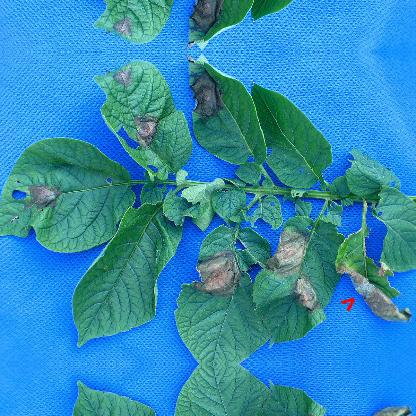Early-Blight: (7, 56, 405, 358)
